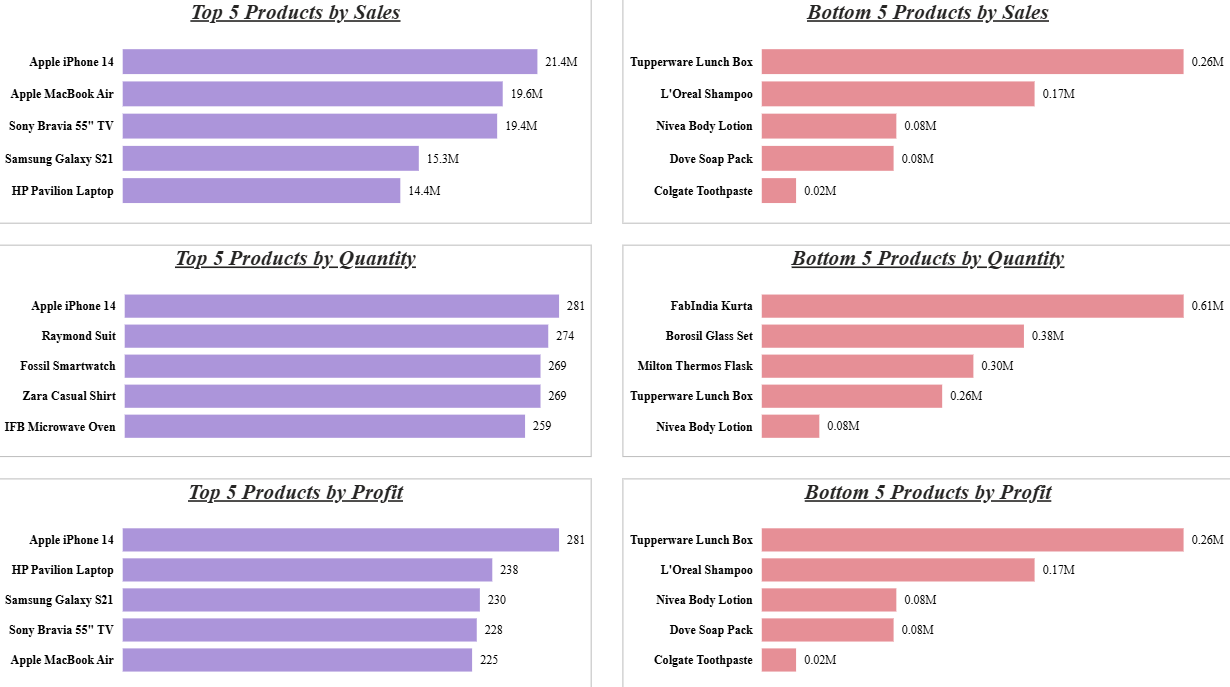

This screenshot's page, from the dashboard's own definition file:
{"tool":"powerbi","page":{"name":"Top/Bottom 5 Analysis","canvas":[1280,720],"ordinal":1},"visuals":[{"type":"barChart","title":"Top 5 Products by Sales","fields":{"Category":["Dim Product.Product Name"],"Y":["Sum(Fact Table.Net Sales)"]},"box":[17.8,17.8,591.4,223.7],"z":0},{"type":"barChart","title":"Bottom 5 Products by Sales","fields":{"Category":["Dim Product.Product Name"],"Y":["Sum(Fact Table.Net Sales)"]},"box":[639.5,17.8,606.5,223.7],"z":1000},{"type":"barChart","title":"Top 5 Products by Quantity","fields":{"Category":["Dim Product.Product Name"],"Y":["Sum(Fact Table.Units Sold)"]},"box":[17.8,262.1,591.4,211.3],"z":2000},{"type":"barChart","title":"Bottom 5 Products by Quantity","fields":{"Category":["Dim Product.Product Name"],"Y":["Sum(Fact Table.Net Sales)"]},"box":[639.5,262.1,606.5,211.3],"z":3000},{"type":"barChart","title":"Top 5 Products by Profit","fields":{"Category":["Dim Product.Product Name"],"Y":["Sum(Fact Table.Units Sold)"]},"box":[17.8,495.4,591.4,211.3],"z":4000},{"type":"barChart","title":"Bottom 5 Products by Profit","fields":{"Category":["Dim Product.Product Name"],"Y":["Sum(Fact Table.Net Sales)"]},"box":[639.5,495.4,606.5,211.3],"z":5000}]}

Visuals, with their boxes in screenshot pixels (x1, y1, x2, y2), scaled from the page's 1280x720 canvas onto the 1230x687 screenshot:
"Top 5 Products by Sales" barChart: Rect(17, 17, 585, 230)
"Bottom 5 Products by Sales" barChart: Rect(615, 17, 1197, 230)
"Top 5 Products by Quantity" barChart: Rect(17, 250, 585, 452)
"Bottom 5 Products by Quantity" barChart: Rect(615, 250, 1197, 452)
"Top 5 Products by Profit" barChart: Rect(17, 473, 585, 674)
"Bottom 5 Products by Profit" barChart: Rect(615, 473, 1197, 674)
